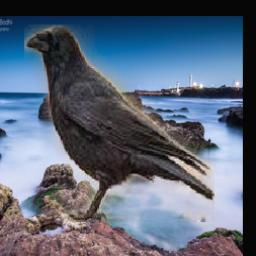Crow: (24, 26, 215, 223)
